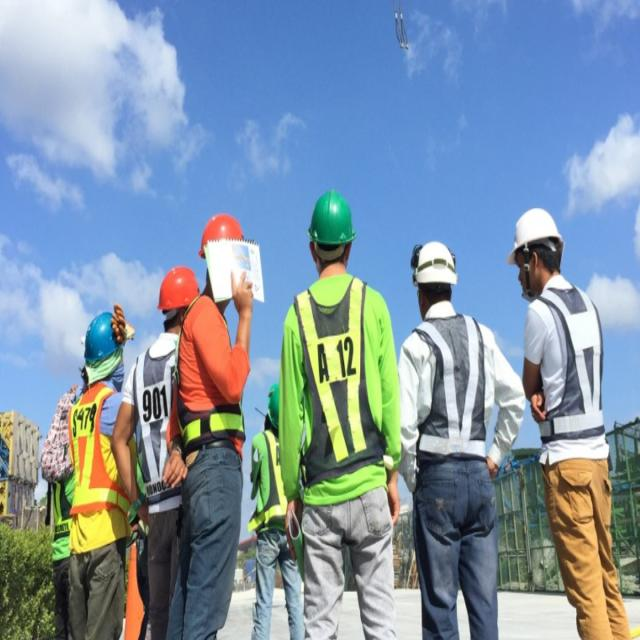helmet: (505, 208, 562, 264), (306, 189, 355, 248), (83, 311, 123, 363), (198, 213, 244, 258), (412, 241, 457, 286), (157, 266, 199, 310), (266, 382, 280, 428)
person: (496, 185, 640, 640), (276, 165, 403, 640), (390, 203, 528, 640), (161, 210, 270, 640), (110, 256, 203, 640), (68, 299, 144, 637), (248, 373, 303, 640), (40, 378, 80, 640)
vest: (297, 278, 390, 474), (170, 294, 249, 462), (414, 314, 492, 464), (532, 282, 605, 442), (128, 340, 183, 510), (69, 382, 131, 520), (250, 433, 286, 532), (46, 466, 74, 540)
